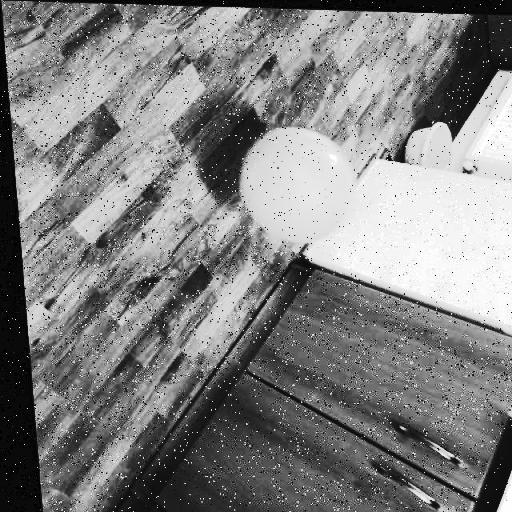balloon: (230, 121, 356, 244)
